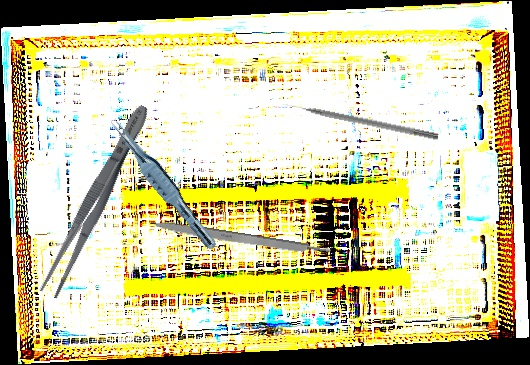Dressing Forceps: (36, 100, 156, 301)
Pusher: (281, 98, 440, 141)
Scalpel Handle: (149, 218, 333, 260)
Tissue Forceps: (102, 115, 225, 252)
